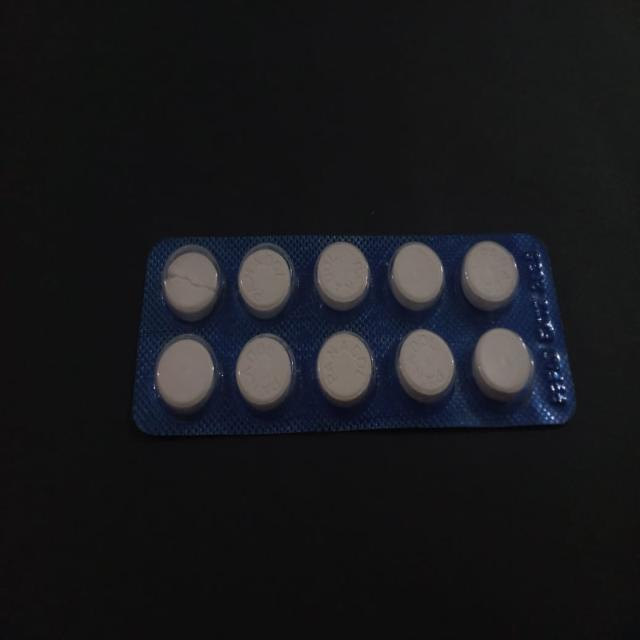defect: (161, 244, 225, 326)
